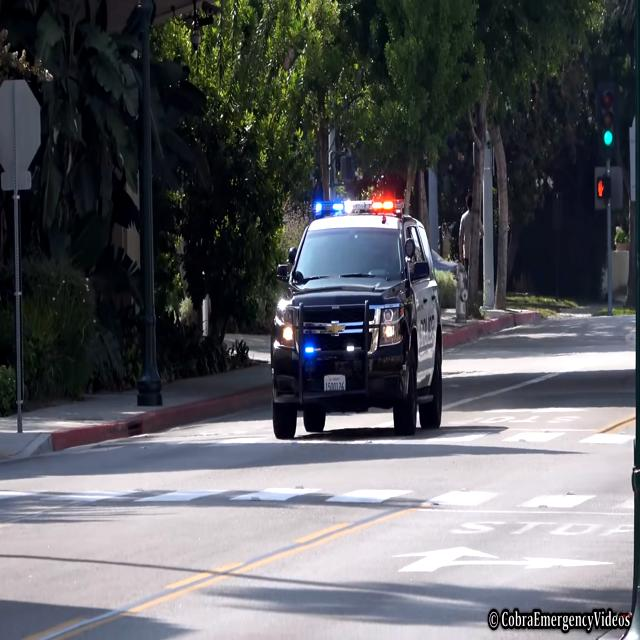emergency-vehicles: (220, 184, 481, 462)
